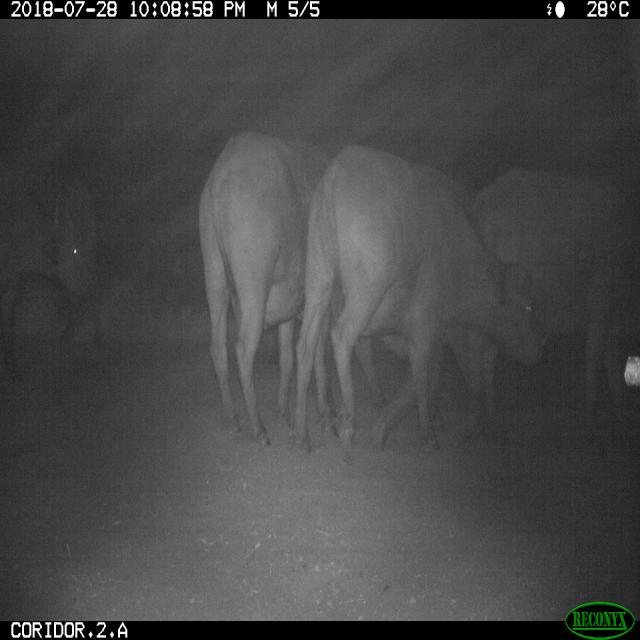buffalo: (199, 138, 423, 449)
